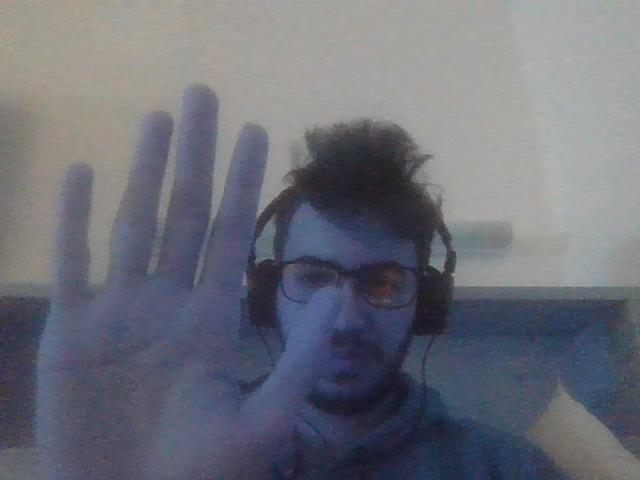Hello: (35, 83, 339, 477)
